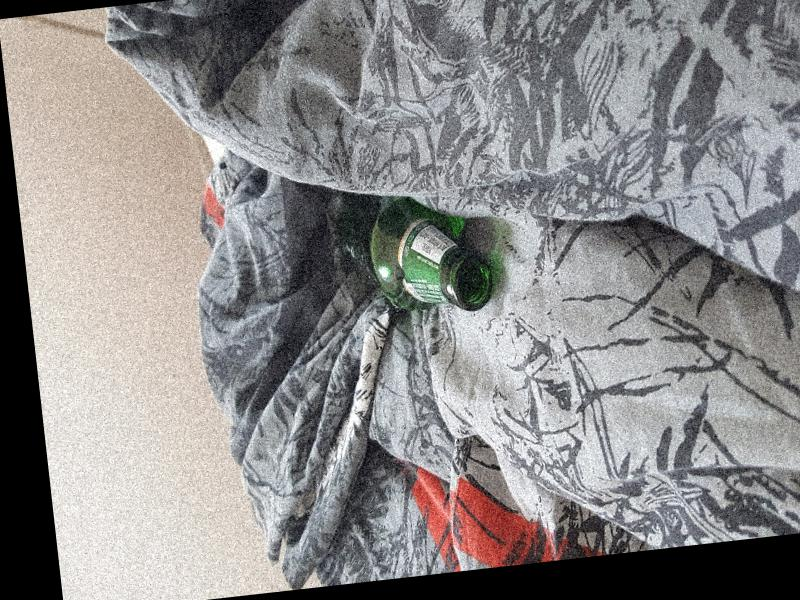Beer: (337, 189, 495, 320)
